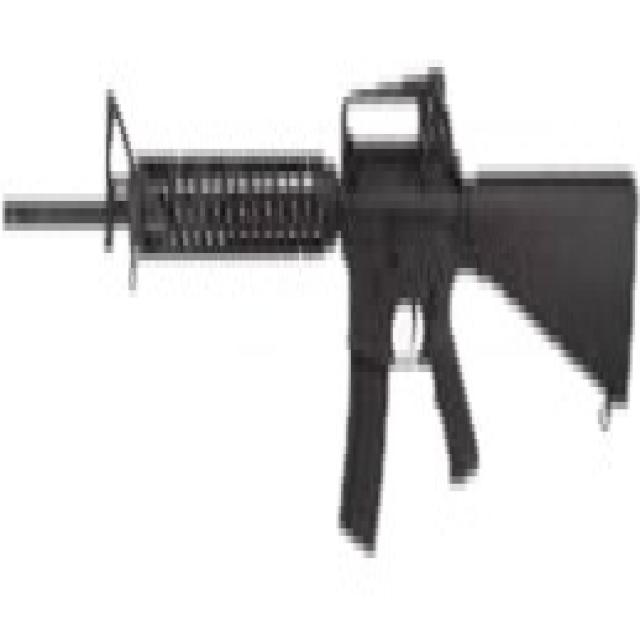rifle: (5, 47, 640, 562)
